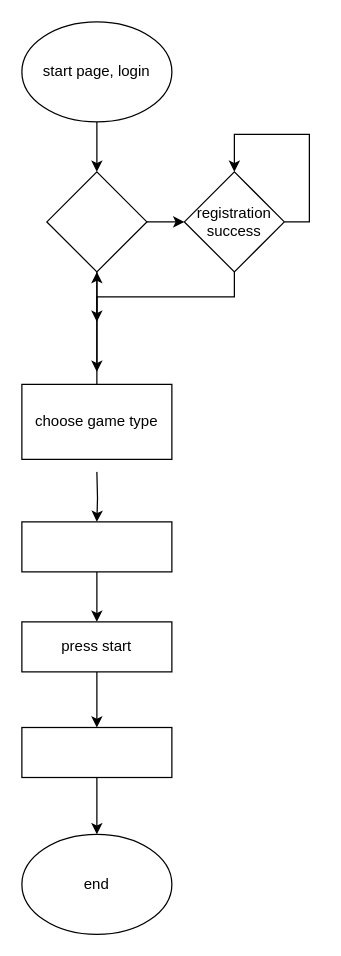
This 341x956 diagram has some shape labels left out. The centre of each missing label's shape, as x and y in pixels:
availed account: the point at 96,221
game end, store game score: the point at 96,752
sketch: the point at 96,546
